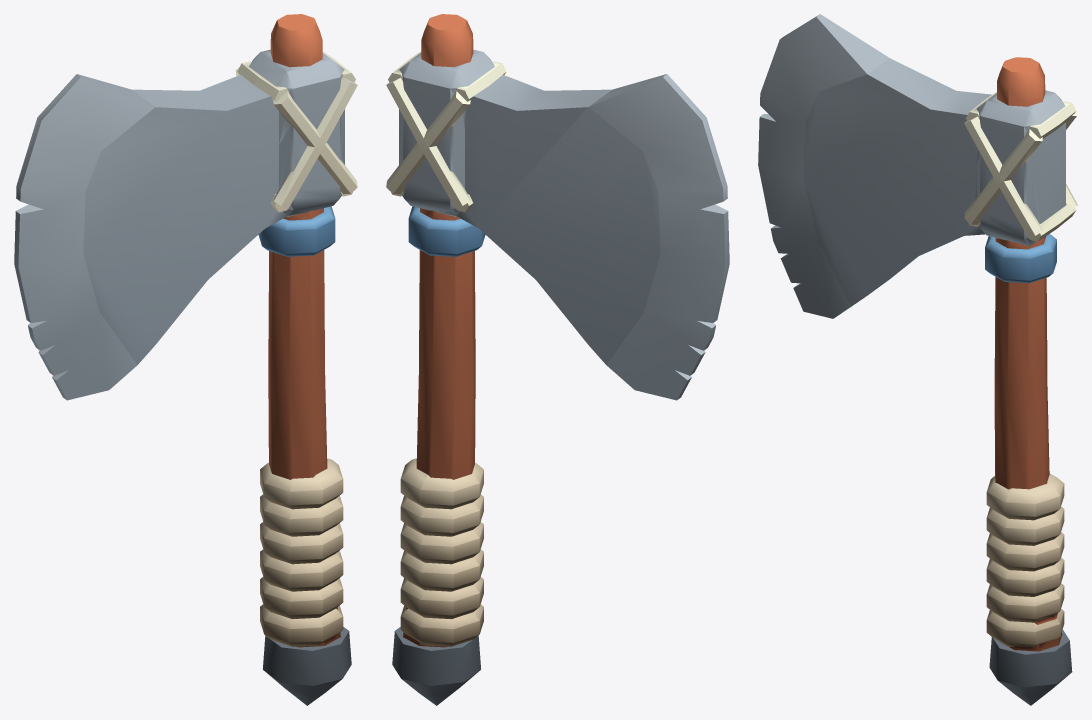
File: axe_bearded.glb
3 renders of one model, left to right at view 1: azimuth 30°, elevation 25°; view 2: azimuth 150°, elevation 25°; view 3: azimuth 330°, elevation 25°, orthographic. The views are drawn at different scales.
Visible parts, largest first — view 1: Item; view 2: Item; view 3: Item.
Part boxes in pixels (left/top/right/bottom): Item: left=14, top=14, right=357, bottom=705; Item: left=386, top=14, right=729, bottom=705; Item: left=758, top=14, right=1077, bottom=705.
Size of the model in its own units: 0.7052 by 1.41 by 0.1759.
Materials: 2 (2 with a texture image).
